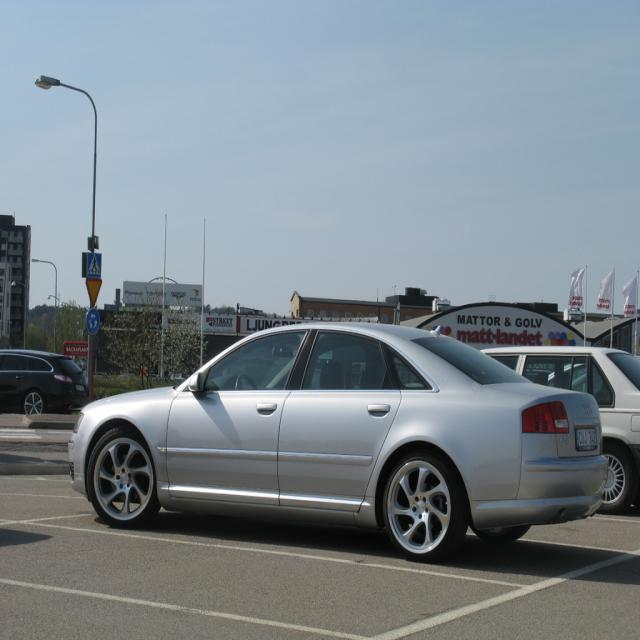car: (66, 319, 605, 559)
